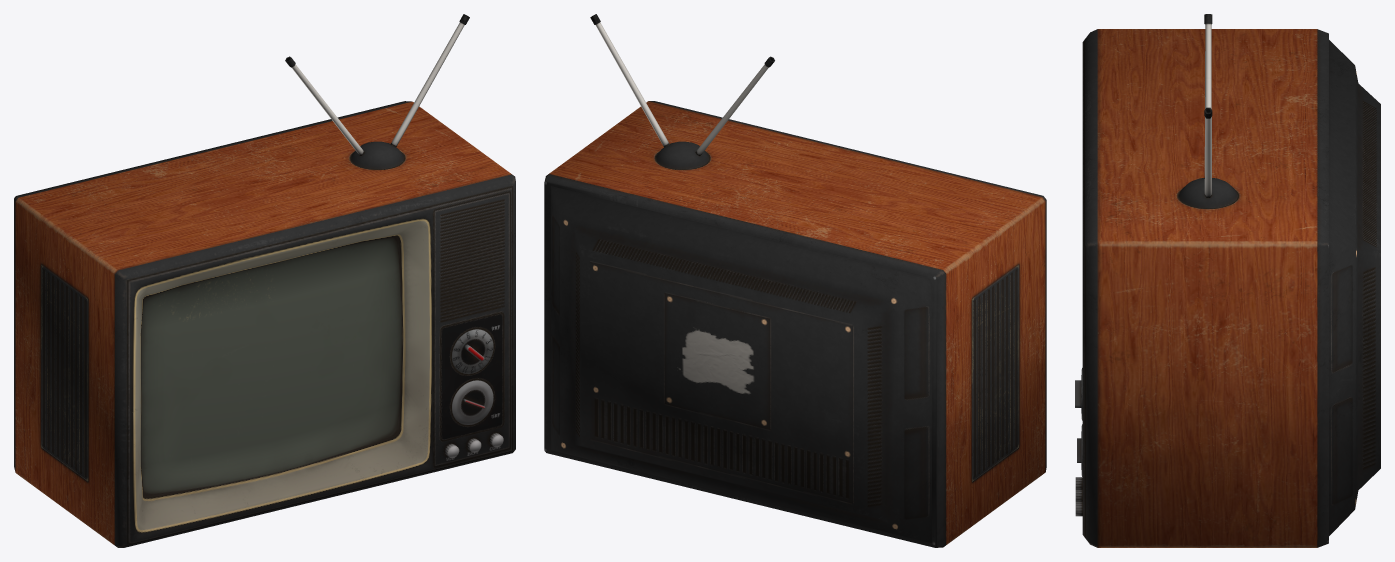
The model's file is vintage_tv4.glb.
3 views of the same model, side by side, from view 1: azimuth 30°, elevation 25°; view 2: azimuth 150°, elevation 25°; view 3: azimuth 270°, elevation 25° (orthographic). The views are drawn at different scales.
Visible parts, largest first — view 1: tv_low, h2_low, sign_low, top_low; view 2: tv-b_low, tv_low, sign_low, top_low; view 3: tv_low, tv-b_low, sign_low, top_low.
Boxes of the visible parts, x1=… form: tv_low: x1=14, y1=101, x2=515, y2=547; h2_low: x1=452, y1=329, x2=493, y2=424; sign_low: x1=285, y1=14, x2=469, y2=155; top_low: x1=351, y1=141, x2=404, y2=169; tv-b_low: x1=551, y1=186, x2=931, y2=542; tv_low: x1=544, y1=101, x2=1046, y2=547; sign_low: x1=590, y1=14, x2=774, y2=155; top_low: x1=656, y1=141, x2=709, y2=169; tv_low: x1=1082, y1=29, x2=1328, y2=547; tv-b_low: x1=1329, y1=40, x2=1380, y2=535; sign_low: x1=1204, y1=14, x2=1212, y2=197; top_low: x1=1178, y1=178, x2=1237, y2=208.
Bounding box in the file's own units: 3.63 × 3.43 × 2.15.
1 material, 1 textured.
